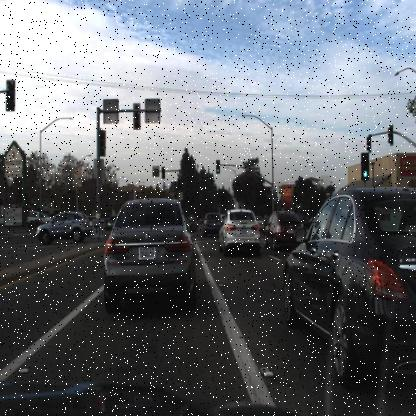car: (277, 181, 415, 398), (104, 198, 193, 316), (260, 204, 306, 256), (34, 210, 90, 245), (218, 207, 258, 253), (202, 208, 226, 240), (252, 206, 266, 234), (221, 209, 235, 232), (84, 214, 96, 231), (186, 209, 197, 222)
trafficLight: (6, 79, 15, 111), (132, 104, 142, 129), (99, 130, 107, 160), (385, 122, 394, 148), (365, 135, 373, 153), (176, 176, 181, 193), (161, 165, 166, 180)
trafficLight-Green: (361, 152, 369, 178), (214, 157, 221, 176), (160, 168, 167, 182), (175, 180, 183, 192), (215, 161, 221, 175), (271, 191, 277, 204)
